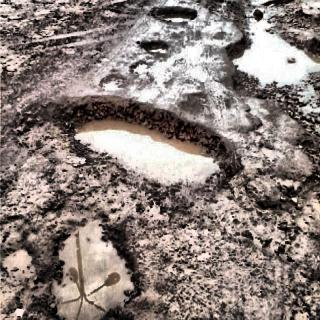pothole: (63, 94, 253, 194), (18, 216, 154, 320), (223, 0, 320, 93), (144, 3, 206, 27), (132, 37, 182, 54), (95, 72, 130, 93), (130, 55, 154, 84)
